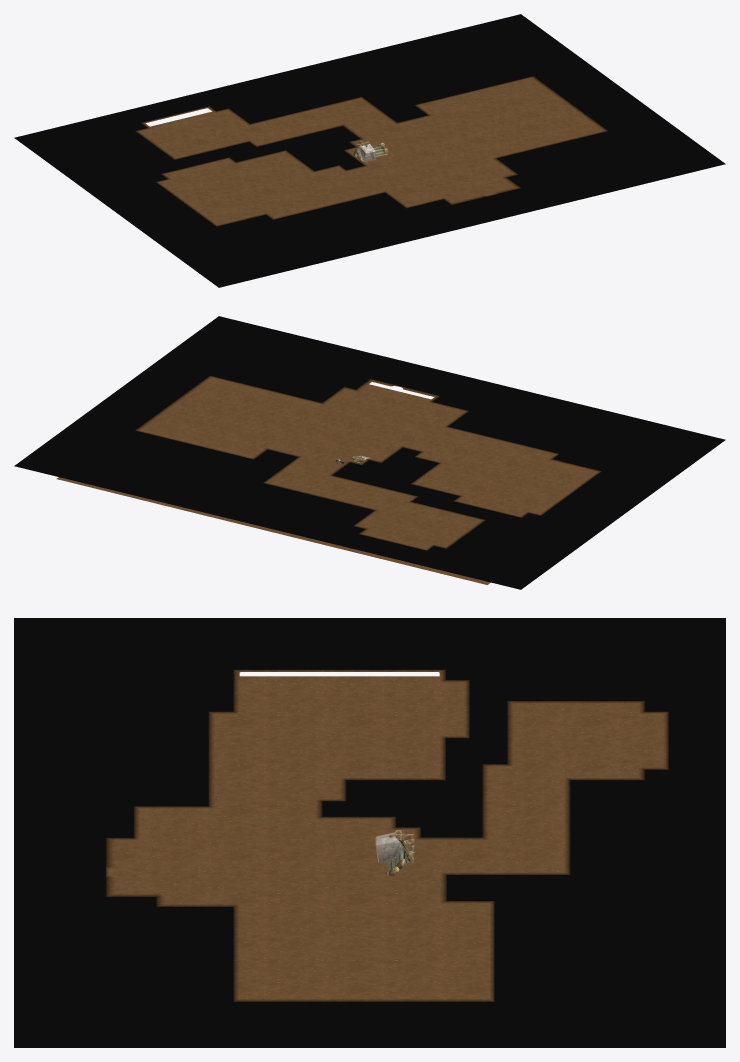
3 renders of one model, top to bottom at view 1: azimuth 30°, elevation 25°; view 2: azimuth 150°, elevation 25°; view 3: azimuth 270°, elevation 25°, orthographic. The views are drawn at different scales.
Parts seen in each view (by area): view 1: lib:bianhuandongku_floor; view 2: lib:bianhuandongku_floor; view 3: lib:bianhuandongku_floor.
Part boxes in pixels (x1=…): lib:bianhuandongku_floor: x1=14, y1=14, x2=725, y2=287; lib:bianhuandongku_floor: x1=14, y1=316, x2=725, y2=589; lib:bianhuandongku_floor: x1=14, y1=618, x2=725, y2=1047.
Bounding box in the file's own units: 81.67 × 2.96 × 57.19.
8 materials, 8 textured.
